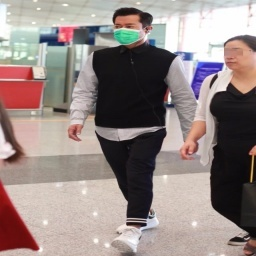correctlyWear: (112, 19, 153, 46)
noWear: (224, 45, 256, 73)
